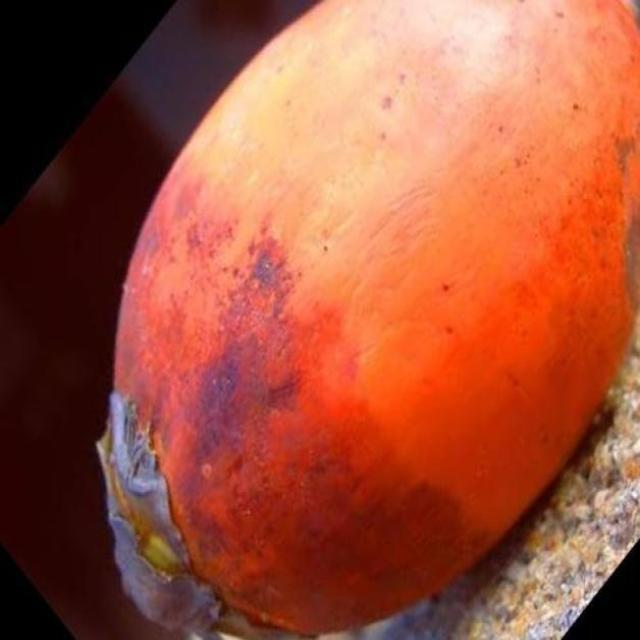good: (95, 0, 639, 639)
